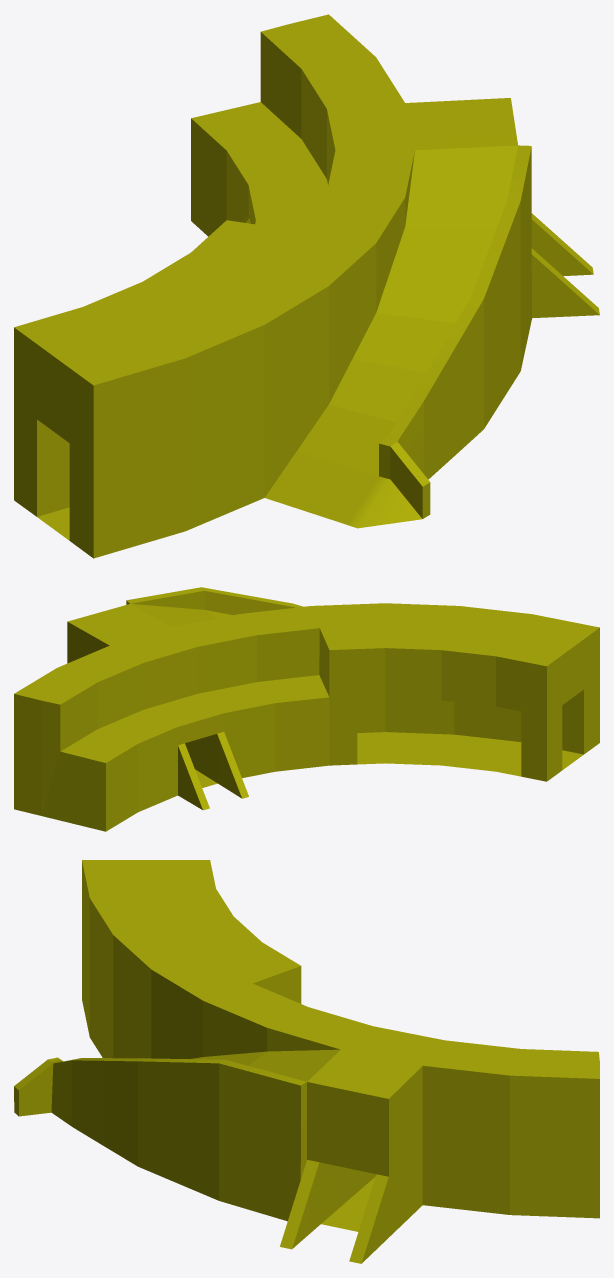
Rendered from outerwallnewnew4+tunnel.fbx.
The picture shows the model from 3 angles, top to bottom: view 1: azimuth 30°, elevation 25°; view 2: azimuth 150°, elevation 25°; view 3: azimuth 270°, elevation 25°; orthographic projection. The views are drawn at different scales.
Parts seen in each view (by area): view 1: polySurface28, polySurface29; view 2: polySurface28, polySurface29; view 3: polySurface28, polySurface29.
Part boxes in pixels (x1,y1,x2,y2): polySurface28: (14, 14, 599, 558); polySurface29: (246, 218, 593, 275); polySurface28: (14, 587, 599, 831); polySurface29: (185, 734, 241, 798); polySurface28: (14, 860, 599, 1263); polySurface29: (292, 1162, 376, 1248).
Bounding box in the file's own units: 48.32 × 11.89 × 45.25.
